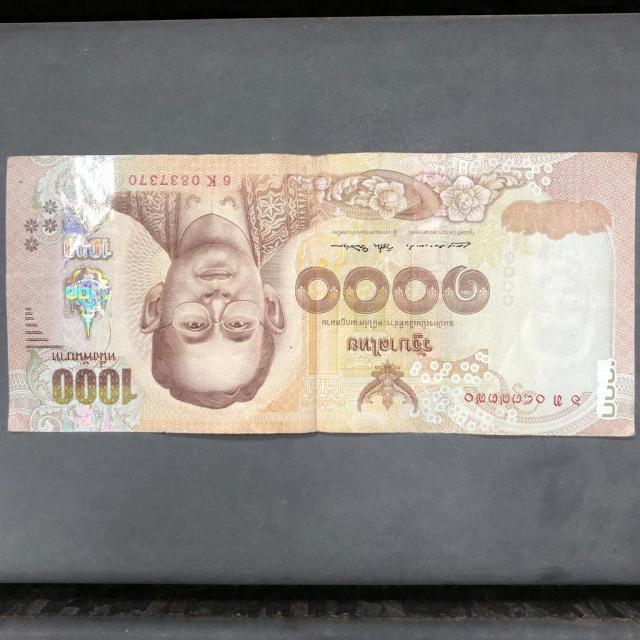THAI1000: (5, 152, 639, 439)
